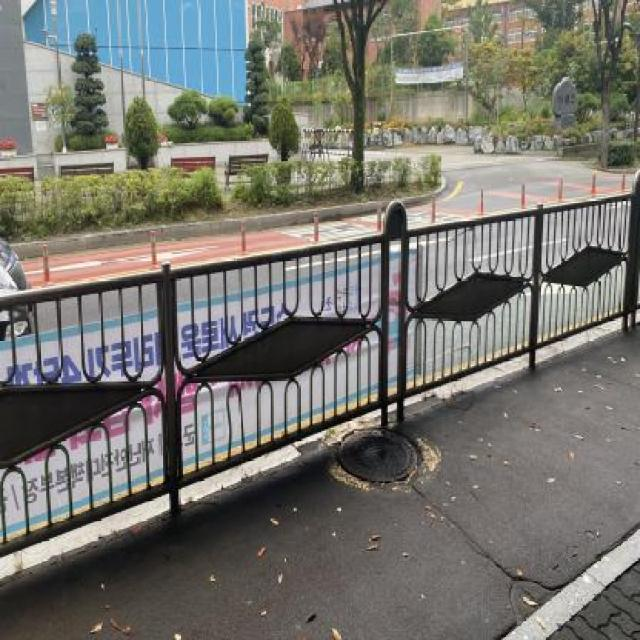fence: (7, 197, 414, 574), (360, 172, 640, 441)
